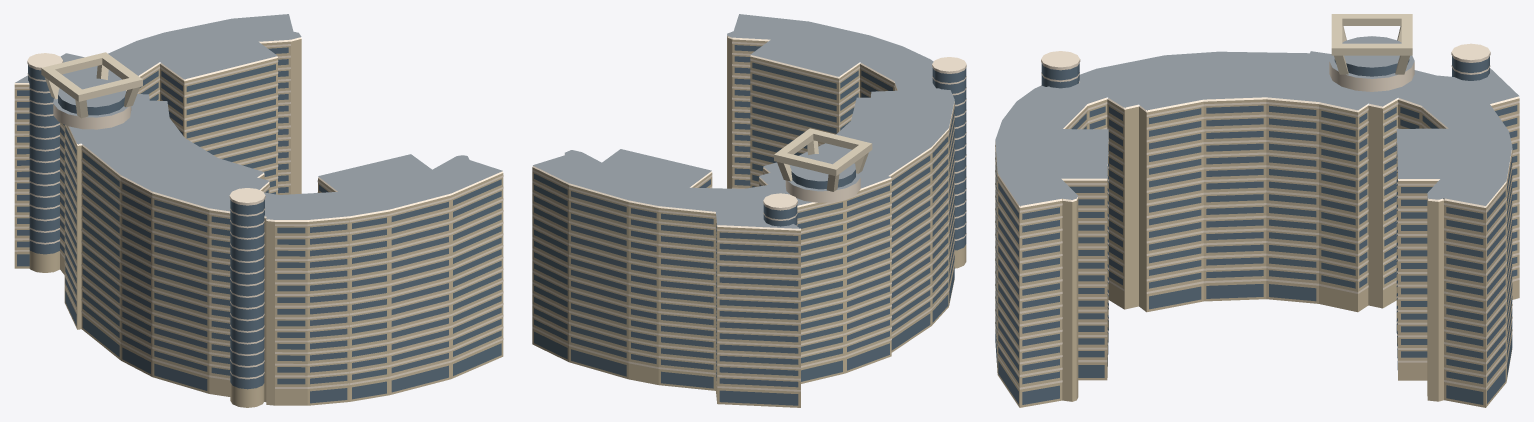
3 renders of one model, left to right at view 1: azimuth 30°, elevation 25°; view 2: azimuth 150°, elevation 25°; view 3: azimuth 270°, elevation 25°, orthographic. The views are drawn at different scales.
Visible parts, largest first — view 1: bay-lake-tower-at-disneys-contemporary-resort-walt-disney-wo; view 2: bay-lake-tower-at-disneys-contemporary-resort-walt-disney-wo; view 3: bay-lake-tower-at-disneys-contemporary-resort-walt-disney-wo.
Boxes of the visible parts, x1=… form: bay-lake-tower-at-disneys-contemporary-resort-walt-disney-wo: x1=14, y1=14, x2=503, y2=407; bay-lake-tower-at-disneys-contemporary-resort-walt-disney-wo: x1=532, y1=14, x2=966, y2=407; bay-lake-tower-at-disneys-contemporary-resort-walt-disney-wo: x1=995, y1=14, x2=1519, y2=407.
Bounding box in the file's own units: 81.61 × 60 × 117.
